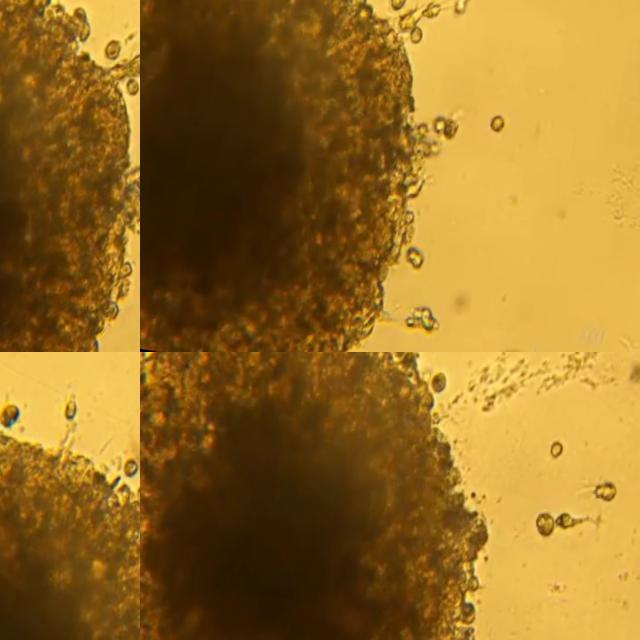cell: (399, 6, 423, 27), (0, 401, 21, 424), (558, 509, 592, 523), (409, 243, 428, 267), (540, 509, 559, 531), (63, 397, 79, 422), (597, 479, 619, 497), (422, 0, 444, 16), (435, 368, 450, 391), (491, 110, 508, 130), (426, 305, 441, 327), (106, 35, 123, 54), (446, 116, 461, 135), (125, 456, 139, 476), (434, 112, 449, 130), (129, 75, 140, 93), (412, 26, 425, 41), (551, 439, 564, 454), (415, 302, 428, 316), (457, 0, 470, 12), (408, 314, 422, 324), (391, 0, 405, 8)
tumor_mass: (140, 0, 446, 352), (140, 352, 492, 640), (0, 425, 140, 640)
